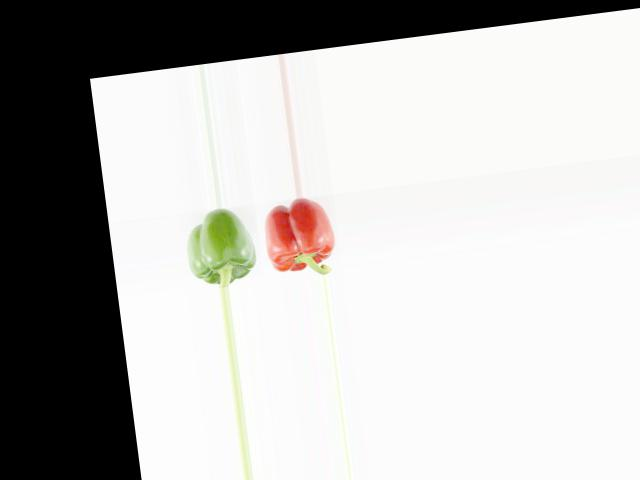bell_pepper: (180, 207, 262, 290)
